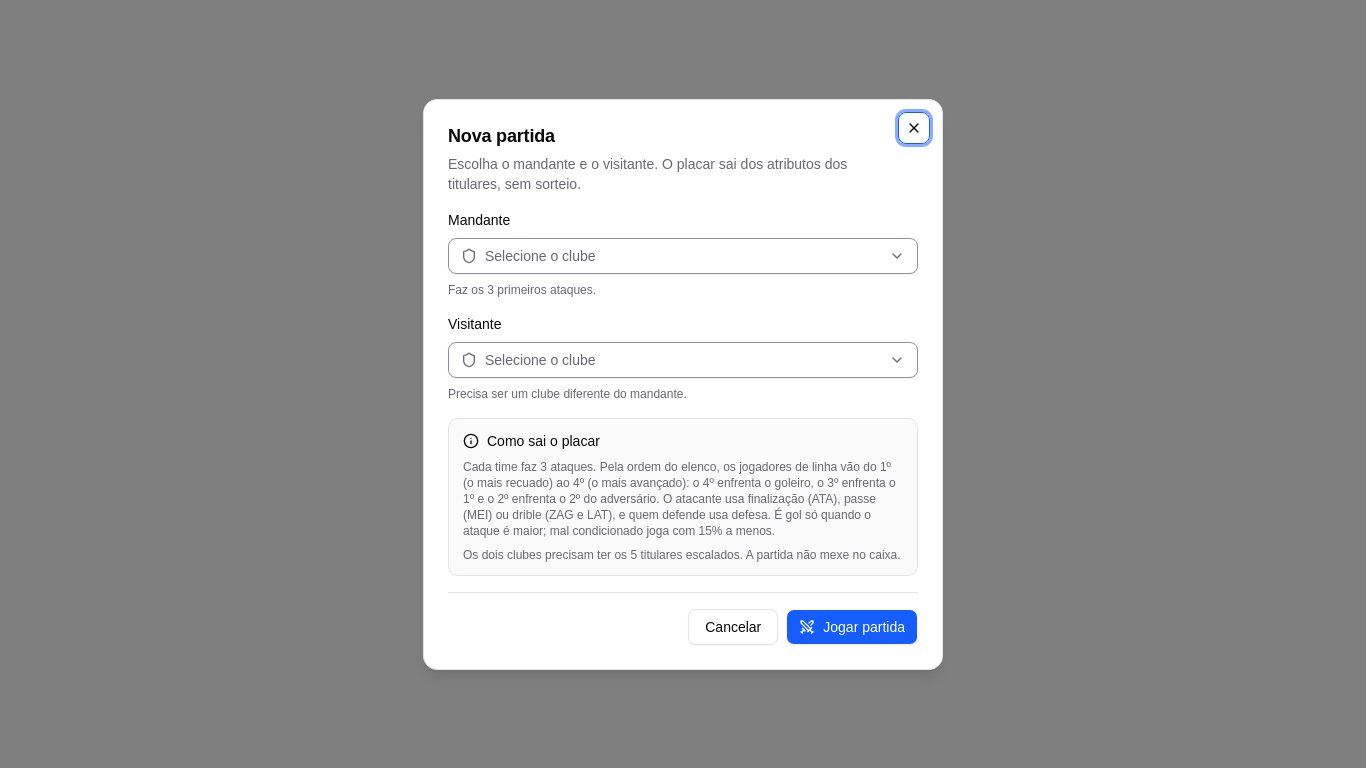
NewMatchDialog › exige dois clubes diferentes
The image size is (1366, 768).
What coordinates should you click on to do the following:
click the dropdown named "Mandante"
I would click on:
 (540, 256)
Its box is [448,238,918,274].
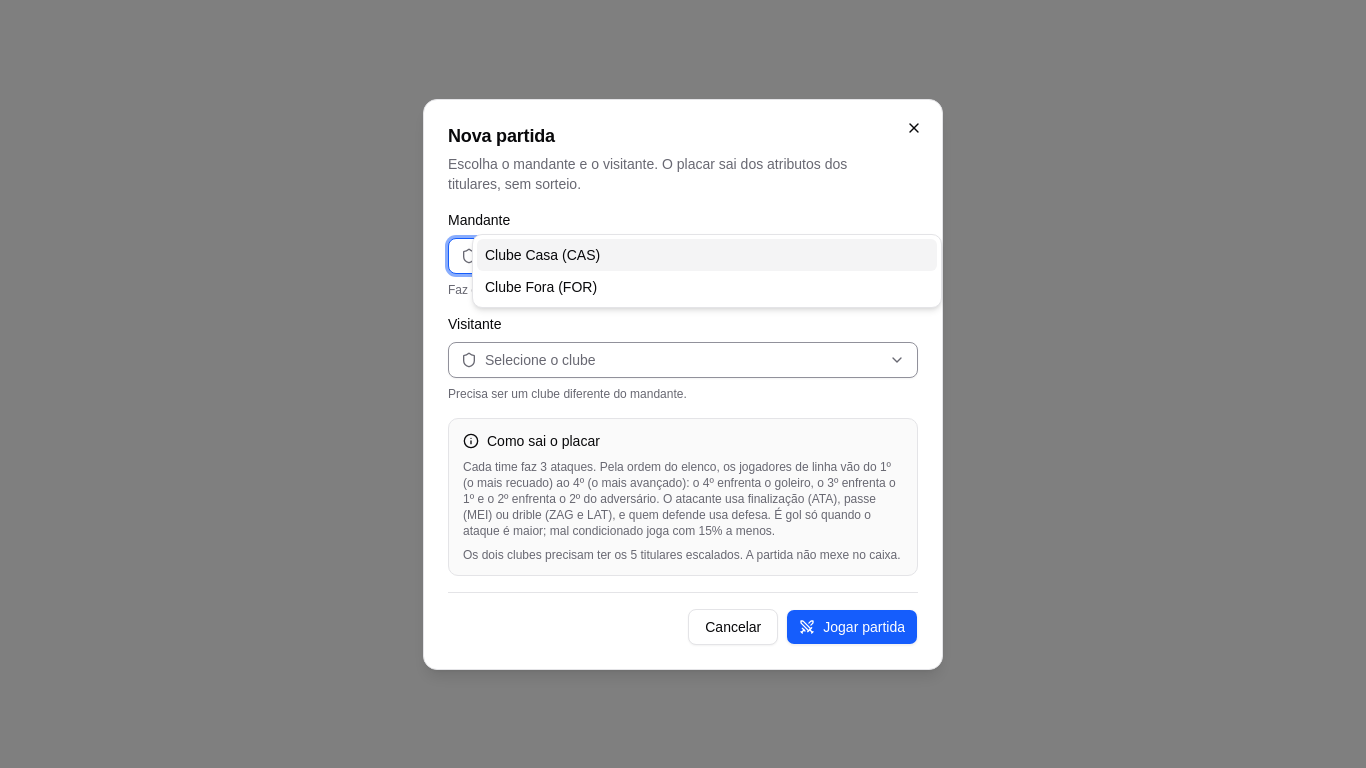
What coordinates should you click on to do the following:
click the option "Clube Casa (CAS)"
I would click on:
 (522, 254)
Its box is [477,238,937,270].
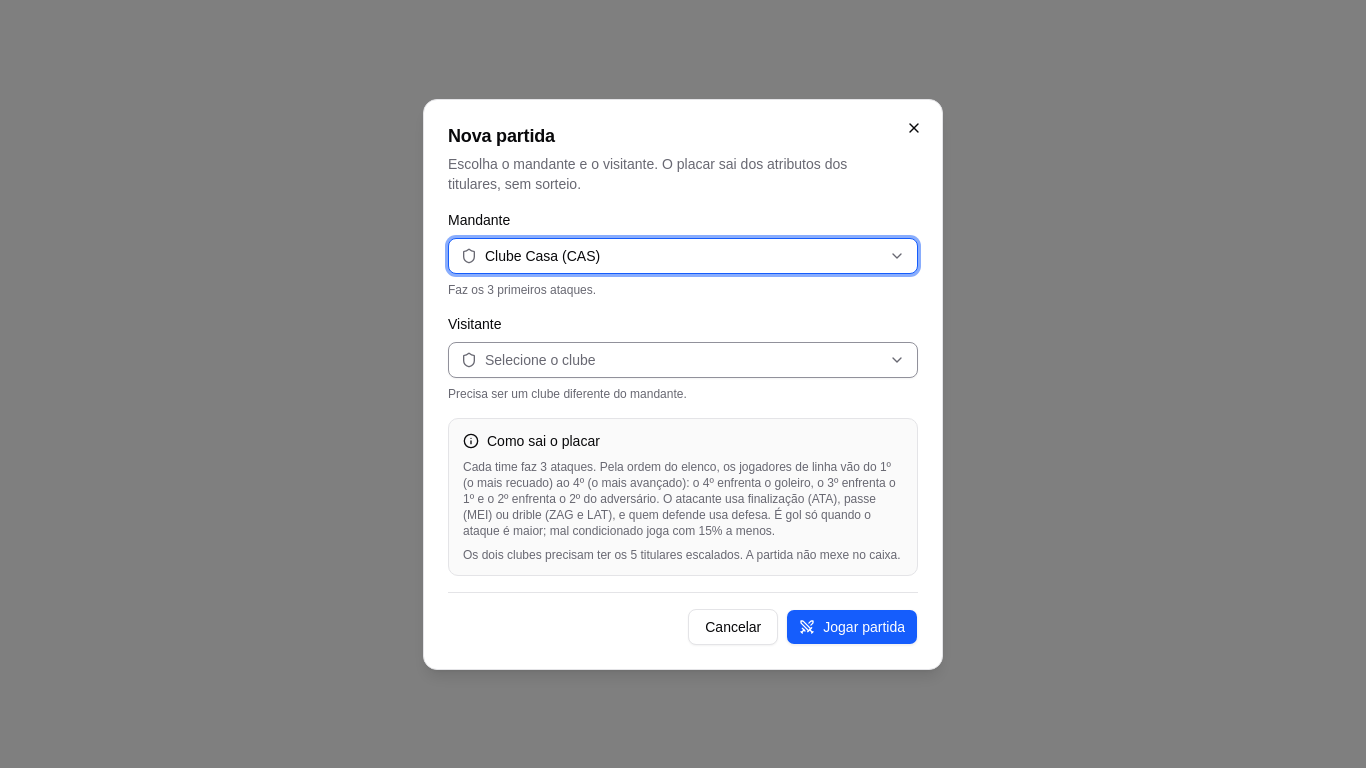
What coordinates should you click on to do the following:
click the dropdown named "Visitante"
I would click on:
 (540, 360)
Its box is [448,342,918,378].
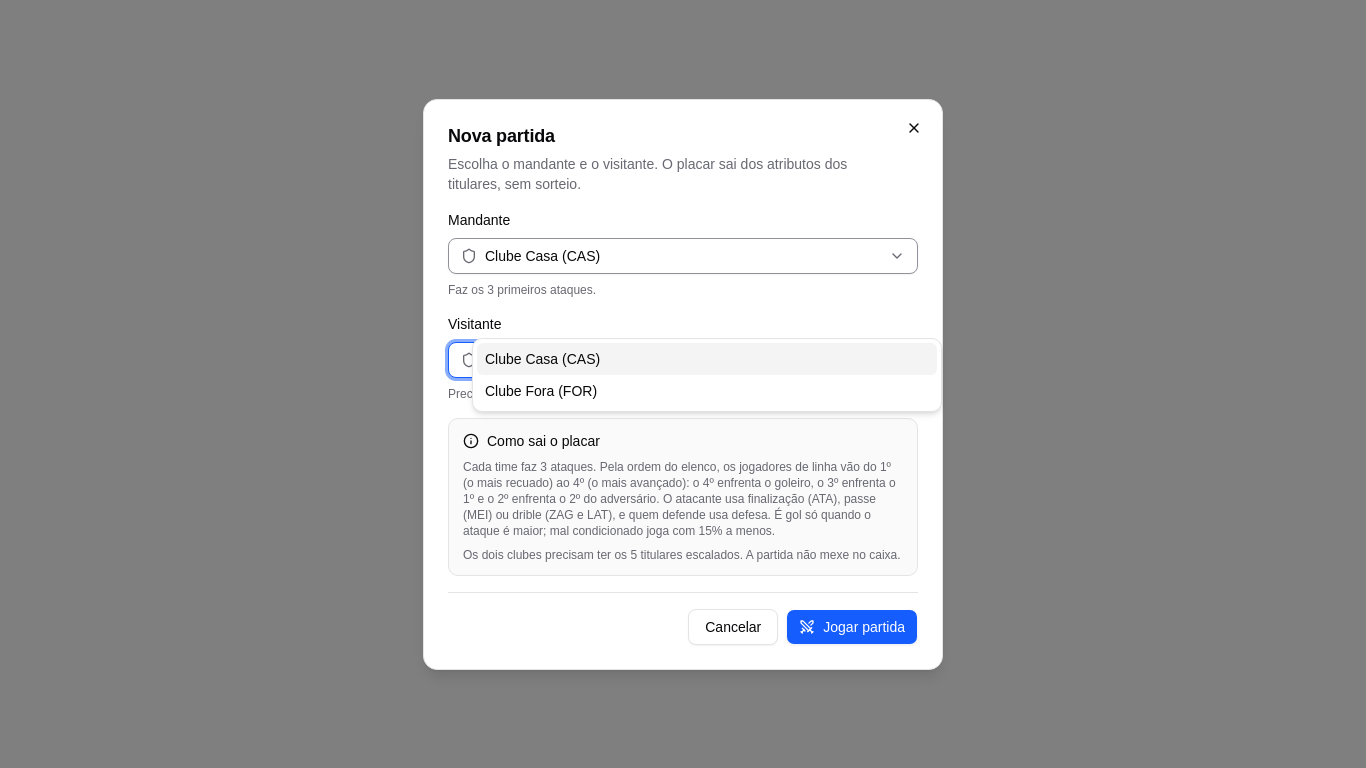
What coordinates should you click on to do the following:
click the option "Clube Casa (CAS)"
I would click on:
 (522, 358)
Its box is [477,342,937,374].
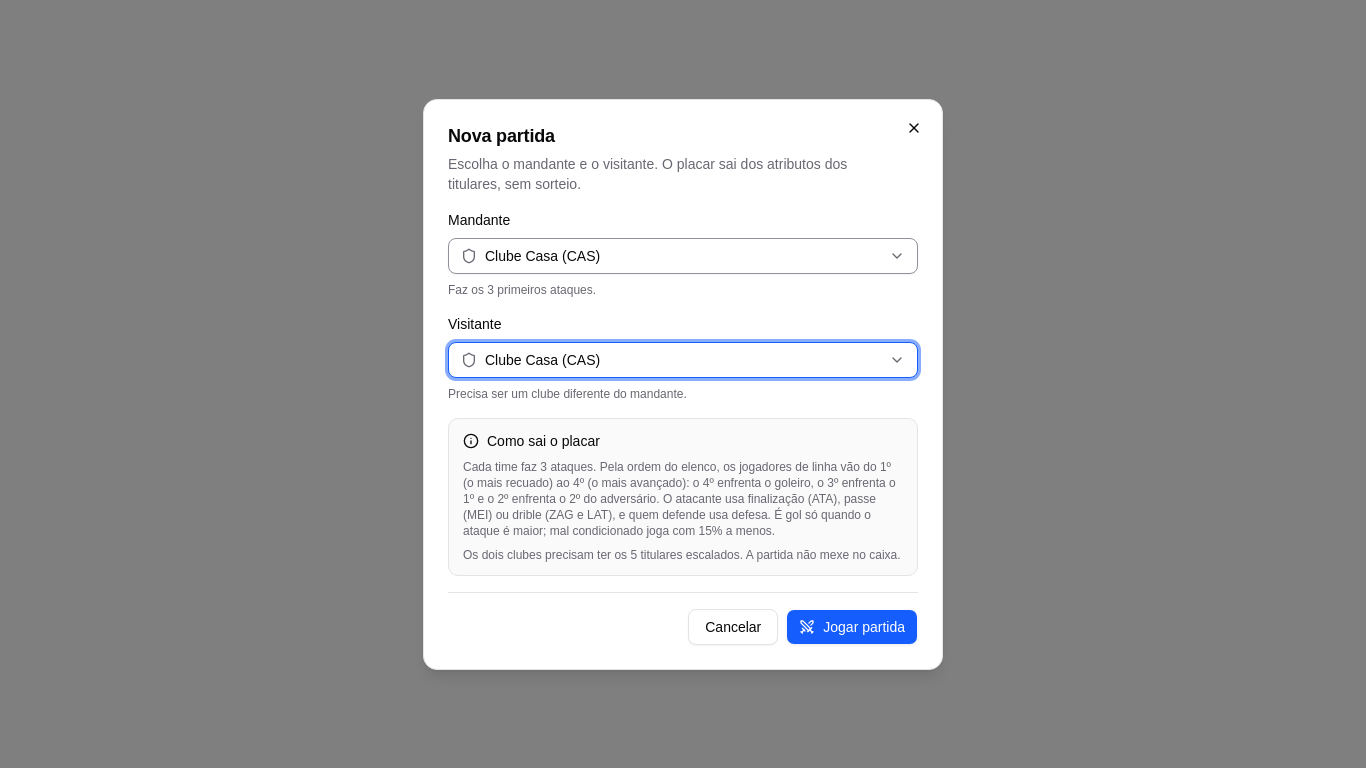
What coordinates should you click on to do the following:
click the button "Jogar partida"
I would click on:
 (852, 626)
Its box is [786,608,918,644].
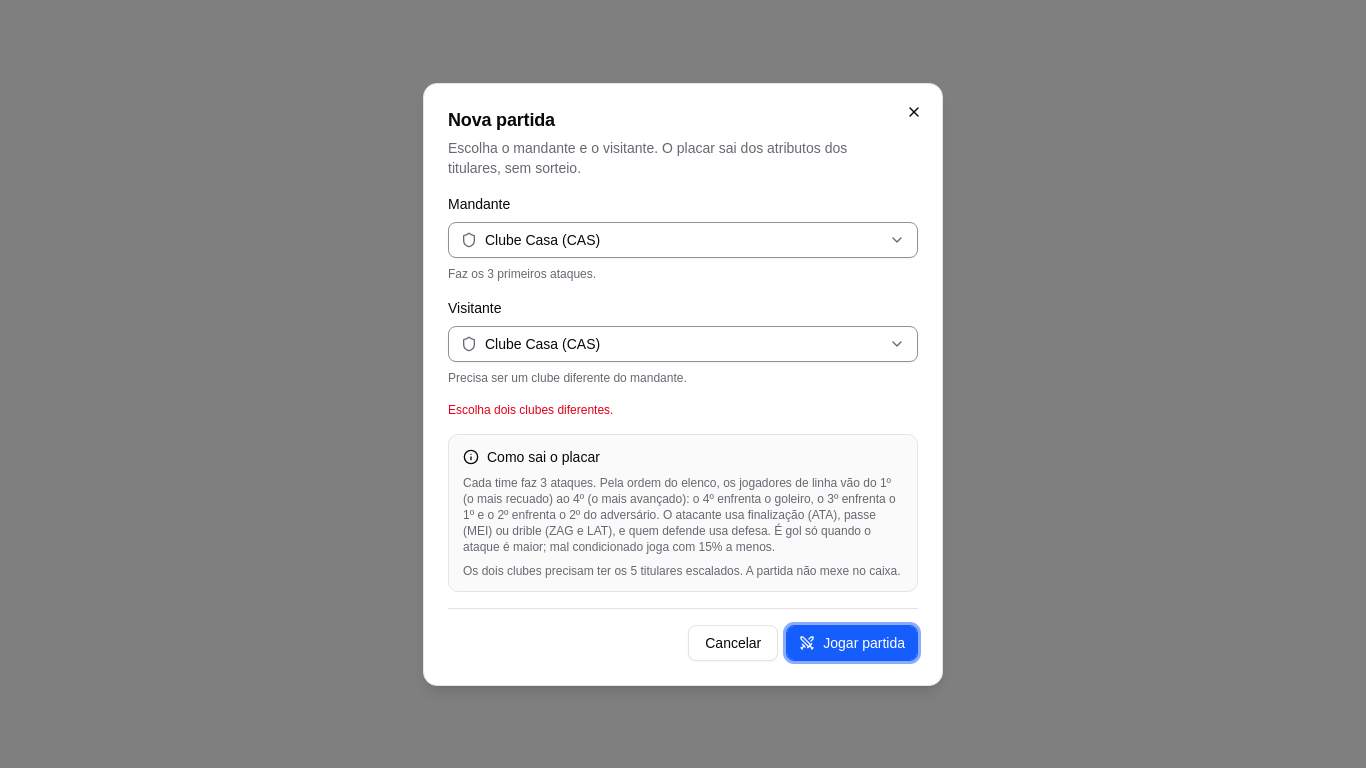
Expected: the text "Escolha dois clubes diferentes." is shown, [448,402,613,416]
